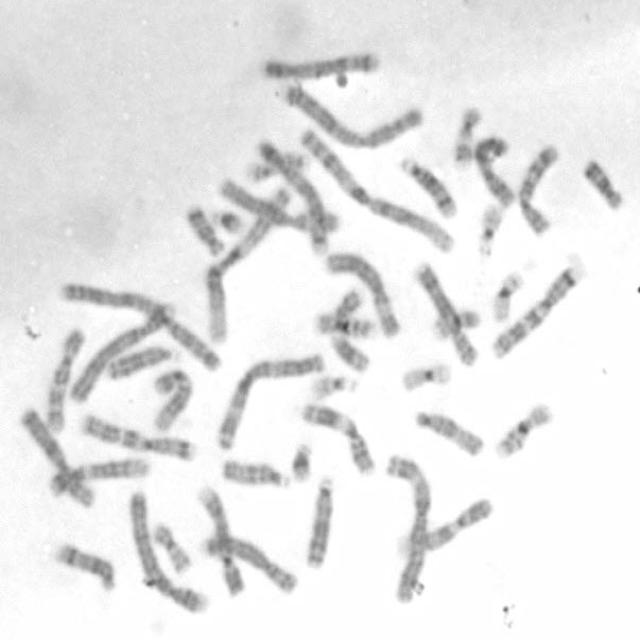A1: (298, 126, 460, 255), (202, 183, 292, 347)
A2: (59, 280, 223, 373), (280, 82, 425, 151)
A3: (215, 350, 327, 450), (381, 453, 434, 604)
B4: (67, 300, 177, 404), (128, 488, 212, 614)
B5: (253, 135, 331, 258), (262, 53, 380, 80)
C10: (43, 324, 85, 435), (516, 143, 561, 239)
C11: (300, 400, 379, 479), (329, 287, 371, 373)
C12: (45, 454, 148, 498), (150, 369, 195, 431)
C6: (218, 176, 340, 237), (325, 250, 402, 340)
C7: (488, 266, 581, 364), (80, 410, 196, 462)
C8: (415, 260, 481, 368), (202, 533, 299, 598)
C9: (194, 483, 250, 600), (397, 498, 495, 561)
D13: (104, 343, 177, 382), (305, 474, 334, 570)
D14: (399, 156, 460, 220), (53, 540, 116, 594)
D15: (411, 410, 486, 458), (220, 458, 290, 488)
E16: (495, 400, 557, 462), (311, 311, 376, 341)
E17: (244, 151, 312, 184), (452, 103, 483, 172)
E18: (582, 156, 625, 213), (184, 204, 227, 258)
F19: (399, 360, 452, 395), (492, 270, 524, 324)
F20: (153, 521, 193, 574), (432, 309, 481, 341)
G21: (289, 442, 312, 484), (210, 208, 245, 233)
G22: (476, 202, 505, 258), (306, 373, 358, 400)
X: (19, 405, 98, 509), (472, 132, 518, 210)
